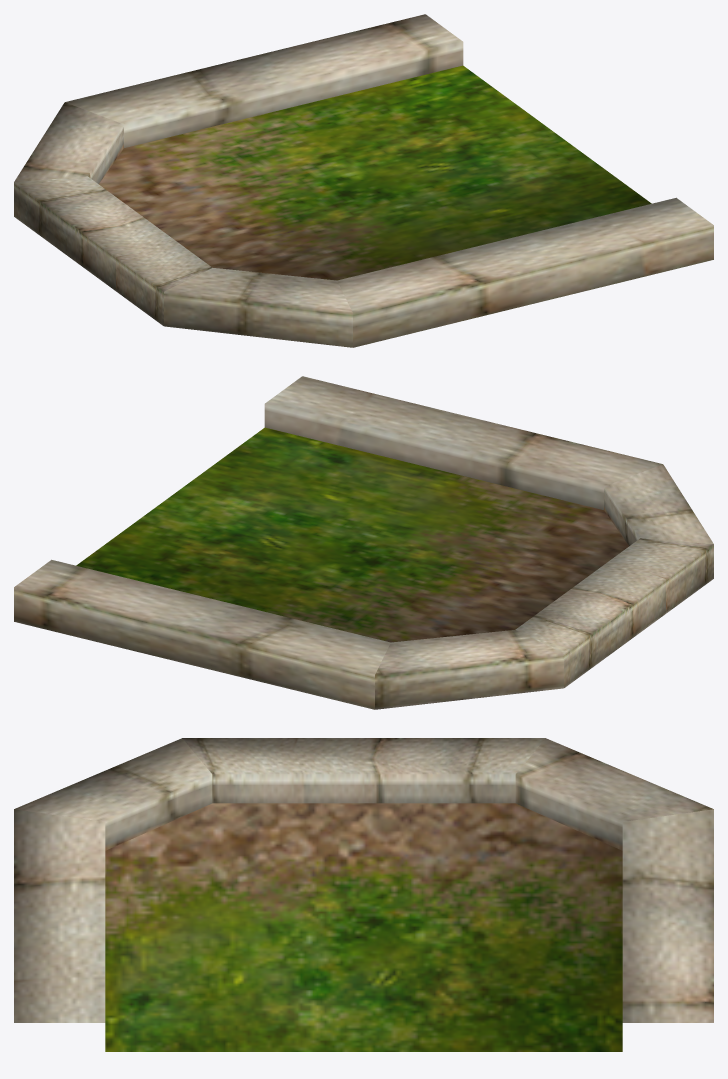
Rendered from a_flowerbed01.glb.
The picture shows the model from 3 angles, top to bottom: view 1: azimuth 30°, elevation 25°; view 2: azimuth 150°, elevation 25°; view 3: azimuth 270°, elevation 25°; orthographic projection. The views are drawn at different scales.
Parts seen in each view (by area): view 1: a_flowerbed01; view 2: a_flowerbed01; view 3: a_flowerbed01.
Part boxes in pixels (x1,y1,x2,y2): a_flowerbed01: (14, 14, 713, 347); a_flowerbed01: (14, 376, 713, 709); a_flowerbed01: (14, 738, 713, 1051).
Bounding box in the file's own units: 2 × 0.1375 × 2.08.
1 material, 1 textured.
